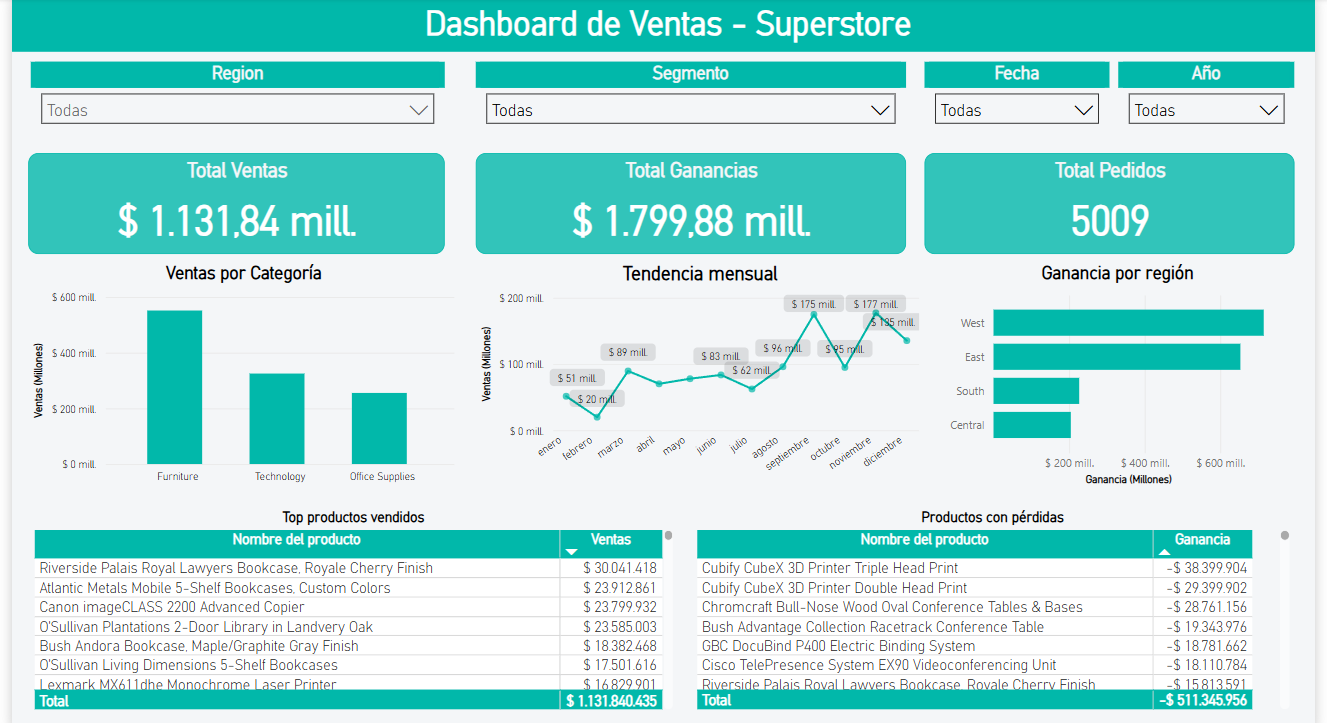

This screenshot's page, from the dashboard's own definition file:
{"tool":"powerbi","page":{"name":"Página 1","canvas":[1280,720],"ordinal":0},"visuals":[{"type":"card","title":"Total Ventas","fields":{"Values":["Sum(Superstore_limpio.sales)"]},"box":[16,152.1,408.6,99.4],"z":0},{"type":"card","title":"Total Ganancias","fields":{"Values":["Sum(Superstore_limpio.profit)"]},"box":[455.2,152.1,422.1,99.4],"z":1000},{"type":"card","title":"Total Pedidos","fields":{"Values":["Count(Superstore_limpio.order_id)"]},"box":[895.7,152.1,363.2,99.4],"z":2000},{"type":"slicer","title":"Segmento","fields":{"Values":["Superstore_limpio.segment"]},"box":[455.2,62.6,422.1,77.3],"z":3000},{"type":"slicer","title":"Region","fields":{"Values":["Superstore_limpio.region"]},"box":[18.4,62.6,406.1,77.3],"z":4000},{"type":"slicer","title":"Fecha","fields":{"Values":["Superstore_limpio.order_date"]},"box":[895.7,62.6,181.6,77.3],"z":5000},{"type":"clusteredColumnChart","title":"Ventas por Categoría","fields":{"Category":["Superstore_limpio.category"],"Y":["Sum(Superstore_limpio.sales)"]},"box":[16,258.9,423.3,225.8],"z":6000},{"type":"lineChart","title":"Tendencia mensual ","fields":{"Category":["Superstore_limpio.order_date.Variación.Jerarquía de fechas.Mes"],"Y":["Sum(Superstore_limpio.sales)"]},"box":[455.2,258.9,440.5,224.5],"z":7000},{"type":"tableEx","title":"Top productos vendidos","fields":{"Values":["Superstore_limpio.product_name","Superstore_limpio.sales"]},"box":[16.2,500.1,638.2,202.8],"z":8000},{"type":"tableEx","title":"Productos con pérdidas","fields":{"Values":["Superstore_limpio.product_name","Superstore_limpio.profit"]},"box":[666.3,500.6,592.6,202.5],"z":9000},{"type":"textbox","box":[0,0,1279.8,52.8],"z":9001},{"type":"clusteredBarChart","title":"Ganancia por región","fields":{"Category":["Superstore_limpio.region"],"Y":["Sum(Superstore_limpio.profit)"]},"box":[911.7,258.9,347.2,224.5],"z":9002},{"type":"slicer","title":"Año","fields":{"Values":["Superstore_limpio.order_date.Variación.Jerarquía de fechas.Año"]},"box":[1085.9,62.6,173,77.3],"z":9003}]}

Visuals, with their boxes on the page's 1280x720 design canvas (x1, y1, x2, y2). These are canvas units, not pixel positions in the 1327x723 screenshot, which may show the page scaled, cropped or inside an application window:
"Total Ventas" card: pyautogui.locateOnScreen(16, 152, 425, 252)
"Total Ganancias" card: pyautogui.locateOnScreen(455, 152, 877, 252)
"Total Pedidos" card: pyautogui.locateOnScreen(896, 152, 1259, 252)
"Segmento" slicer: pyautogui.locateOnScreen(455, 63, 877, 140)
"Region" slicer: pyautogui.locateOnScreen(18, 63, 424, 140)
"Fecha" slicer: pyautogui.locateOnScreen(896, 63, 1077, 140)
"Ventas por Categoría" clusteredColumnChart: pyautogui.locateOnScreen(16, 259, 439, 485)
"Tendencia mensual " lineChart: pyautogui.locateOnScreen(455, 259, 896, 483)
"Top productos vendidos" tableEx: pyautogui.locateOnScreen(16, 500, 654, 703)
"Productos con pérdidas" tableEx: pyautogui.locateOnScreen(666, 501, 1259, 703)
textbox: pyautogui.locateOnScreen(0, 0, 1280, 53)
"Ganancia por región" clusteredBarChart: pyautogui.locateOnScreen(912, 259, 1259, 483)
"Año" slicer: pyautogui.locateOnScreen(1086, 63, 1259, 140)
